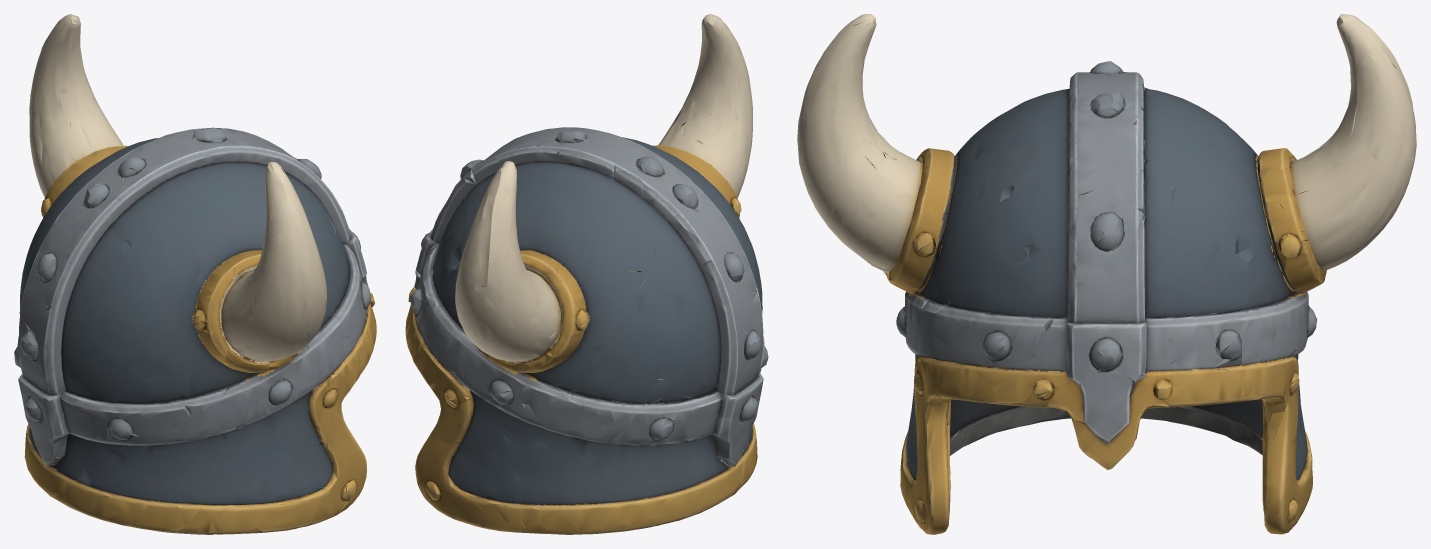
Rendered from viking-helmet.glb.
3 renders of one model, left to right at view 1: azimuth 30°, elevation 25°; view 2: azimuth 150°, elevation 25°; view 3: azimuth 270°, elevation 25°, orthographic. The views are drawn at different scales.
Parts seen in each view (by area): view 1: viking-helmet; view 2: viking-helmet; view 3: viking-helmet.
Part boxes in pixels (box(x1,y1,x2,y2)): viking-helmet: box(14, 14, 376, 534); viking-helmet: box(405, 14, 768, 534); viking-helmet: box(797, 14, 1416, 534).
Bounding box in the file's own units: 0.3402 × 0.371 × 0.4464.
Materials: 1 (1 with a texture image).
